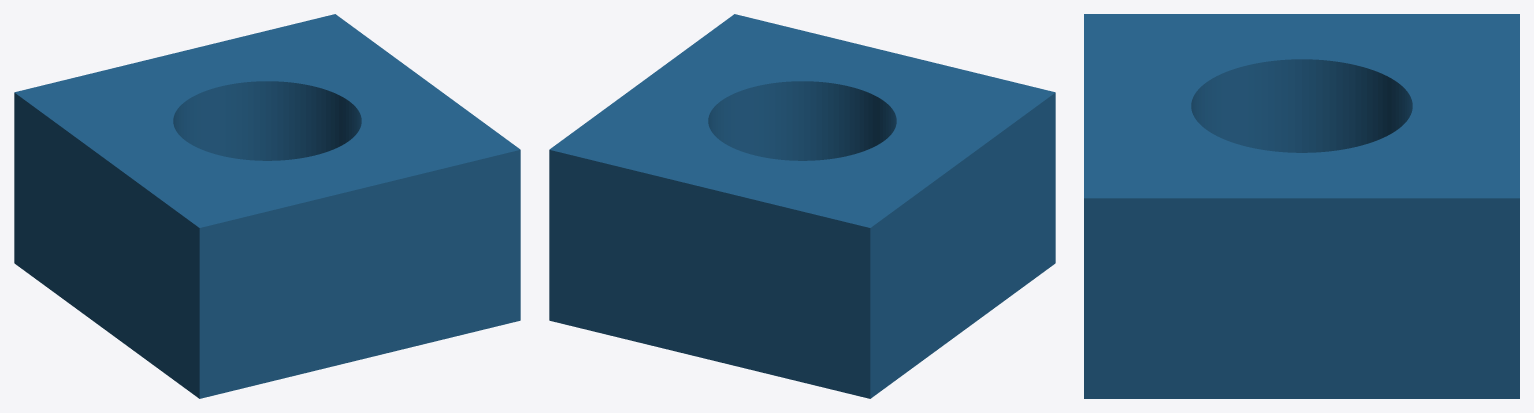
The model's file is HoleB.fbx.
3 views of the same model, side by side, from view 1: azimuth 30°, elevation 25°; view 2: azimuth 150°, elevation 25°; view 3: azimuth 270°, elevation 25° (orthographic). The views are drawn at different scales.
Visible parts, largest first — view 1: HoleB; view 2: HoleB; view 3: HoleB.
Part boxes in pixels (<box>): HoleB: <box>14,14,520,398</box>; HoleB: <box>549,14,1055,398</box>; HoleB: <box>1084,14,1519,398</box>.
Bounding box in the file's own units: 1180 × 600 × 1180.
